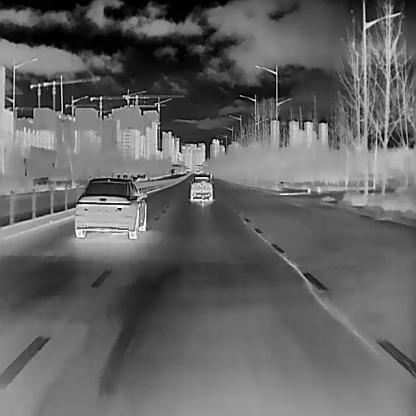car: (74, 176, 147, 238), (189, 174, 212, 202), (32, 175, 49, 190)
